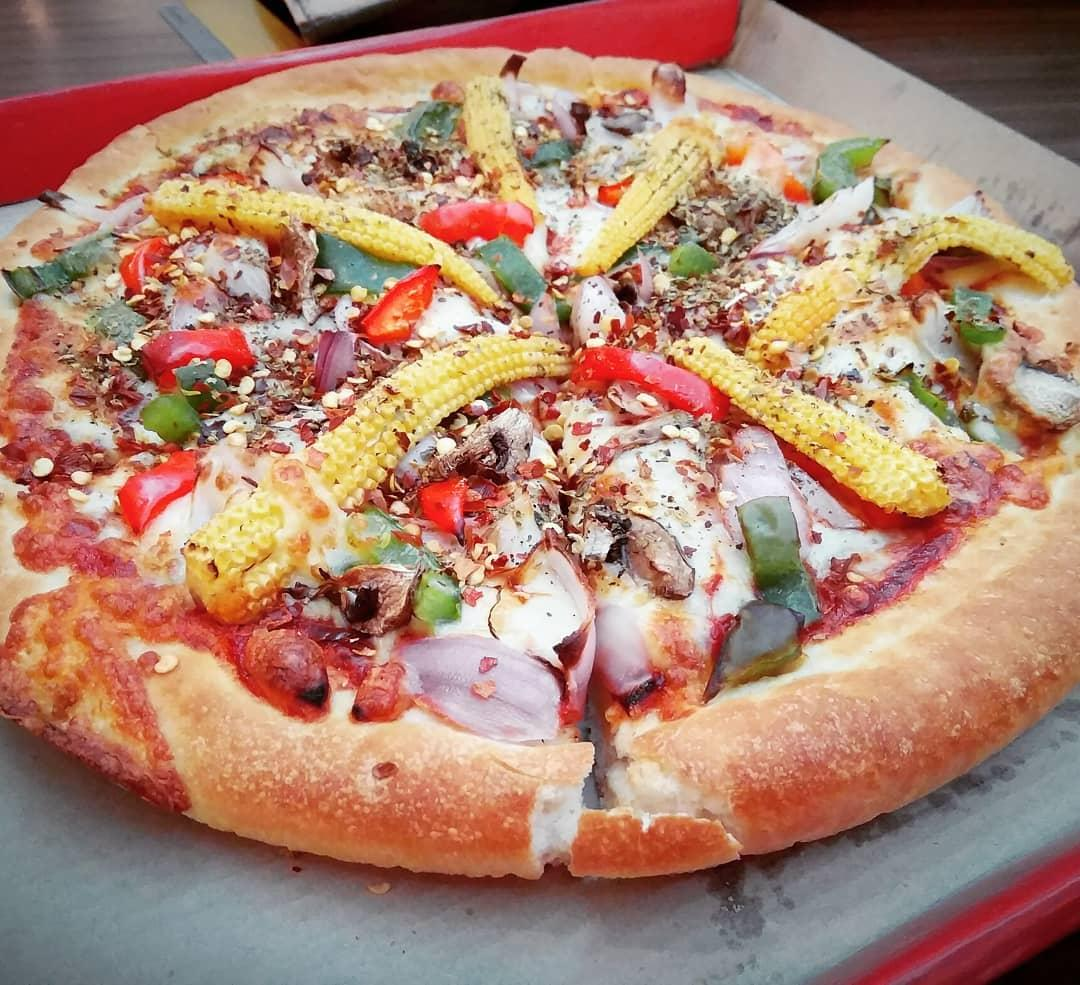Corn: (199, 458, 331, 620), (906, 215, 1071, 288), (331, 372, 407, 521), (729, 362, 827, 461), (828, 439, 947, 516), (293, 194, 420, 263), (153, 181, 293, 240), (409, 335, 477, 449), (745, 279, 831, 361), (466, 79, 521, 202), (637, 130, 716, 203), (478, 334, 569, 397), (581, 205, 649, 269)
Onion: (386, 631, 562, 744), (489, 534, 604, 678), (709, 424, 813, 561)
Peppers: (567, 347, 728, 419), (0, 227, 118, 310), (738, 501, 814, 620), (115, 449, 199, 537), (358, 263, 439, 344), (142, 324, 259, 374), (814, 134, 896, 205), (414, 470, 504, 532), (730, 139, 810, 202), (479, 244, 547, 315), (420, 203, 535, 244), (953, 284, 1003, 342), (118, 233, 164, 293), (902, 374, 953, 427), (409, 100, 459, 146), (521, 133, 572, 171), (597, 173, 637, 204)
Pizza: (0, 48, 1080, 884)
